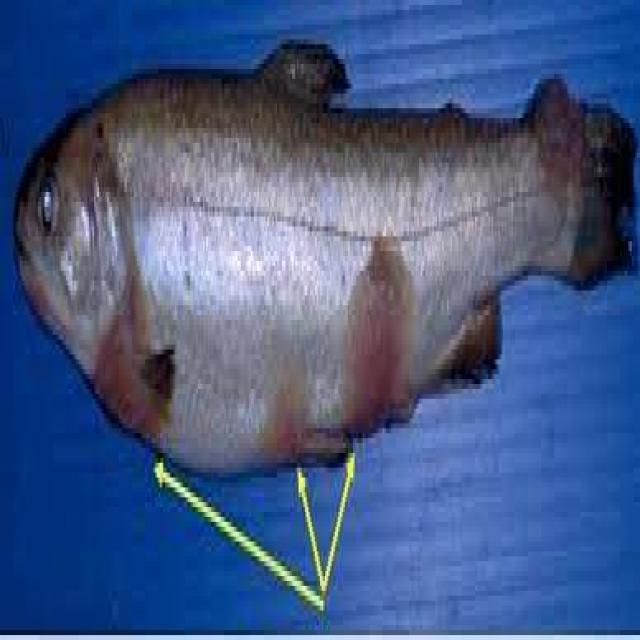EUS Disease: (18, 40, 640, 473), (49, 116, 639, 471), (92, 245, 494, 482), (485, 101, 609, 226), (252, 28, 372, 125)
